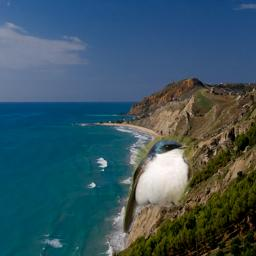Swallow: (123, 135, 194, 233)
